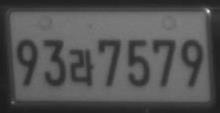3: (43, 38, 66, 86)
5: (126, 39, 150, 87)
7: (151, 38, 176, 87), (98, 38, 121, 87)
9: (180, 38, 203, 87), (16, 38, 38, 86)
라: (69, 48, 93, 86)
